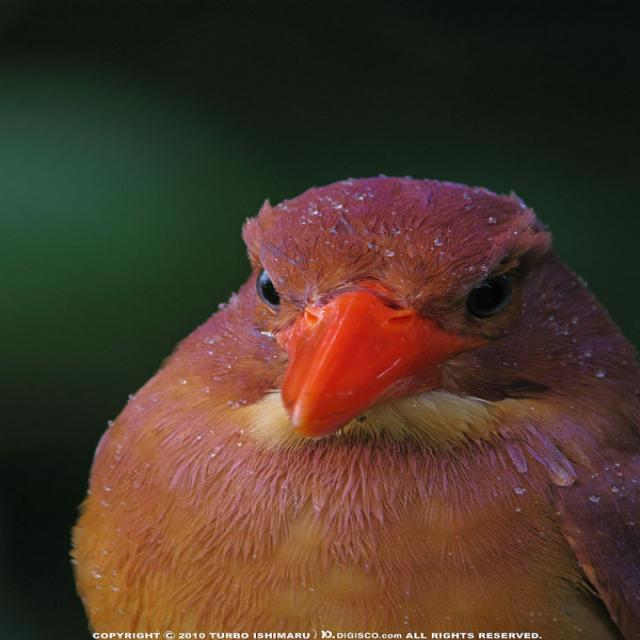bird: (81, 167, 640, 640)
